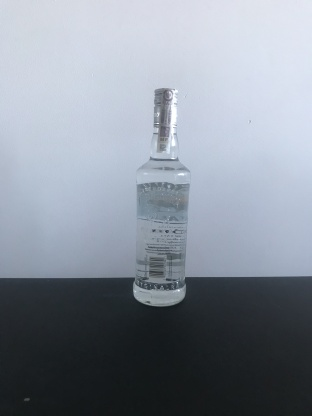nakretka: (151, 83, 180, 131)
